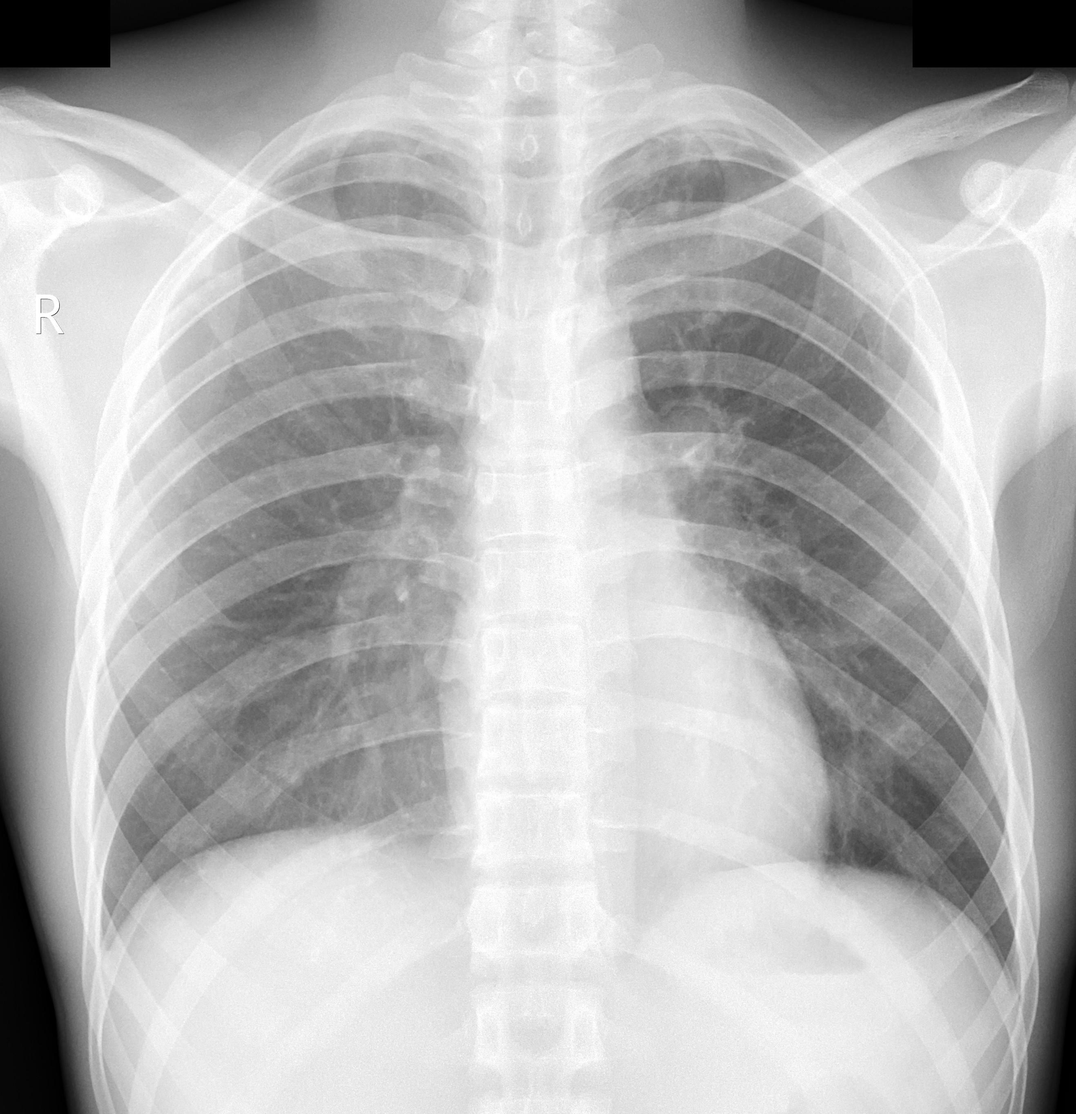Pleural thickening: (272, 127, 418, 171)
Pulmonary fibrosis: (650, 120, 743, 219)
